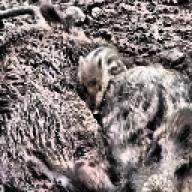boar: (0, 1, 123, 192), (76, 43, 191, 192)
